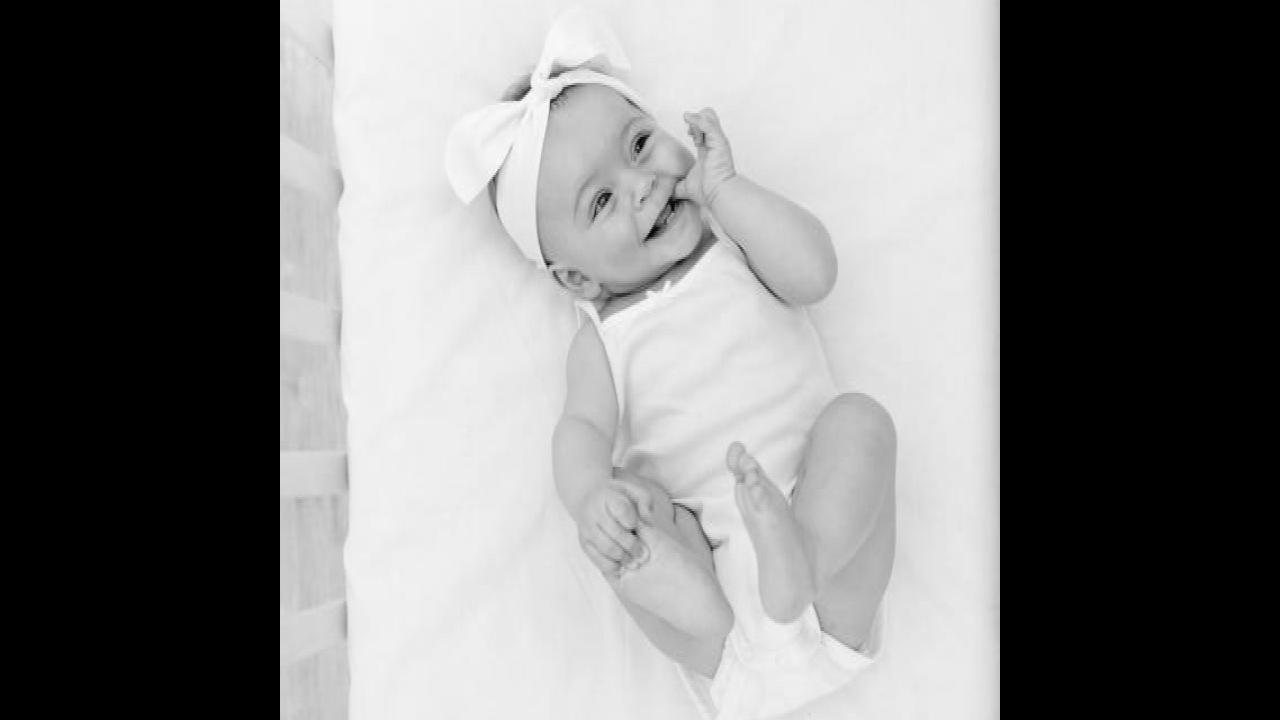hand: (576, 477, 650, 575), (670, 110, 736, 198)
